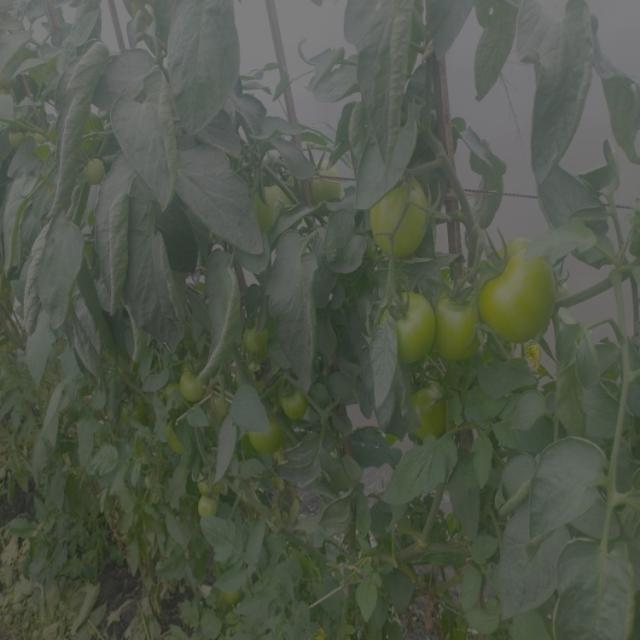tomato: (483, 232, 555, 350), (370, 172, 433, 261), (375, 283, 431, 368), (433, 272, 481, 364), (407, 379, 455, 440), (294, 166, 350, 202), (14, 126, 62, 165), (250, 181, 290, 223), (67, 113, 109, 150), (278, 384, 314, 427), (241, 320, 273, 358), (177, 372, 208, 408), (80, 154, 111, 188), (248, 420, 278, 452), (129, 406, 153, 433), (198, 499, 223, 521), (218, 583, 244, 603), (198, 472, 218, 496)
